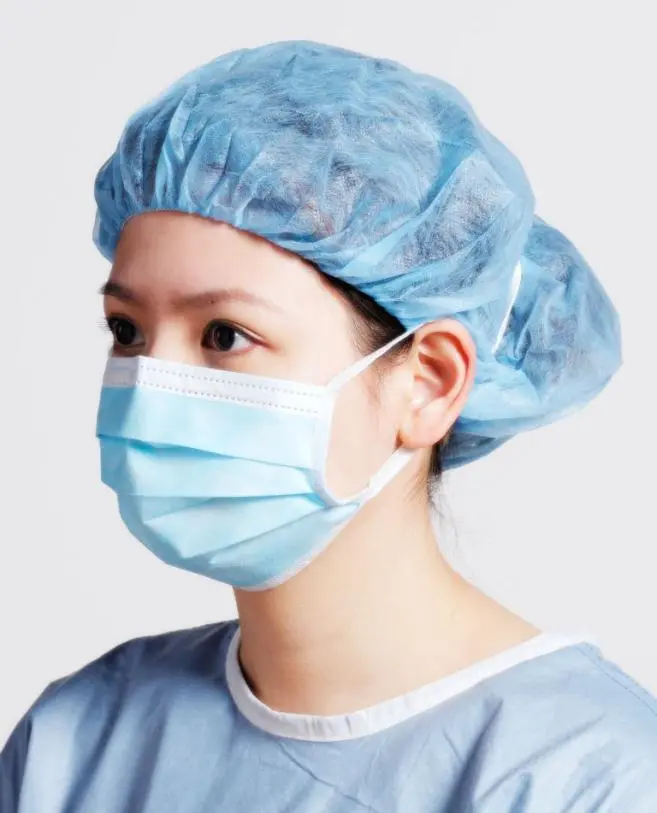withmask: (59, 46, 636, 613)
